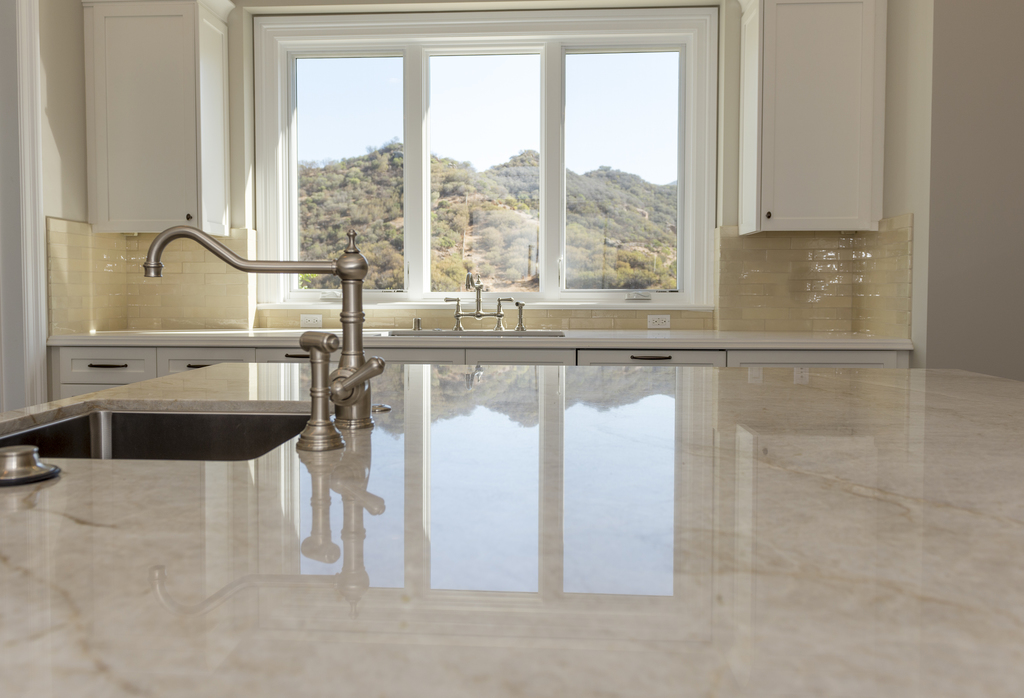tap: (17, 228, 402, 526), (443, 275, 515, 332)
